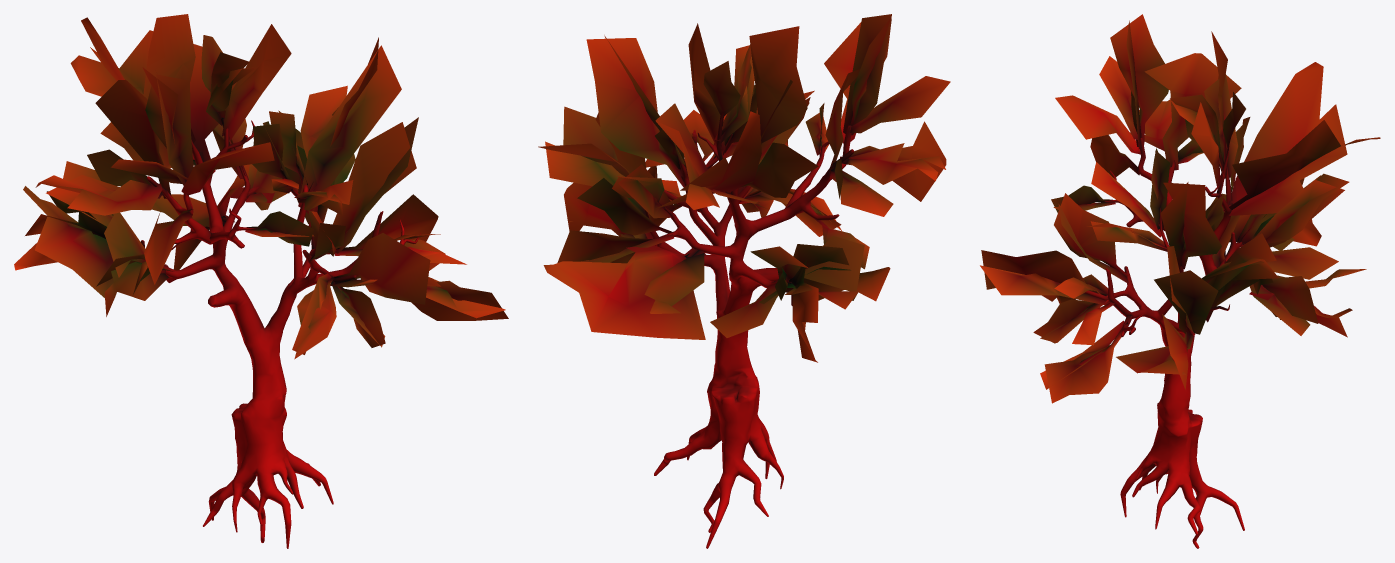
File: OliveTreeOldCATAM.fbx
3 renders of one model, left to right at view 1: azimuth 30°, elevation 25°; view 2: azimuth 150°, elevation 25°; view 3: azimuth 270°, elevation 25°, orthographic. The views are drawn at different scales.
Visible parts, largest first — view 1: OliveTreeOldCATAM_Leaves_LOD0, OliveTreeOldCATAM_Trunk_LOD0; view 2: OliveTreeOldCATAM_Leaves_LOD0, OliveTreeOldCATAM_Trunk_LOD0; view 3: OliveTreeOldCATAM_Leaves_LOD0, OliveTreeOldCATAM_Trunk_LOD0.
Part boxes in pixels (box(x1,y1,x2,y2)): OliveTreeOldCATAM_Leaves_LOD0: box(14, 14, 508, 359); OliveTreeOldCATAM_Trunk_LOD0: box(141, 117, 420, 548); OliveTreeOldCATAM_Leaves_LOD0: box(538, 14, 950, 362); OliveTreeOldCATAM_Trunk_LOD0: box(645, 118, 854, 548); OliveTreeOldCATAM_Leaves_LOD0: box(980, 14, 1380, 403); OliveTreeOldCATAM_Trunk_LOD0: box(1084, 137, 1244, 548).
Size of what is drawn, in the model's own units: 8.98 by 11.91 by 9.09.
